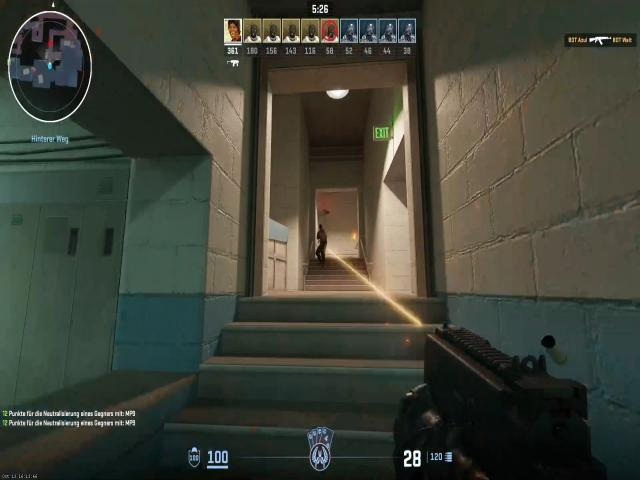T: (317, 219, 329, 255)
T-Head: (318, 224, 326, 234)
